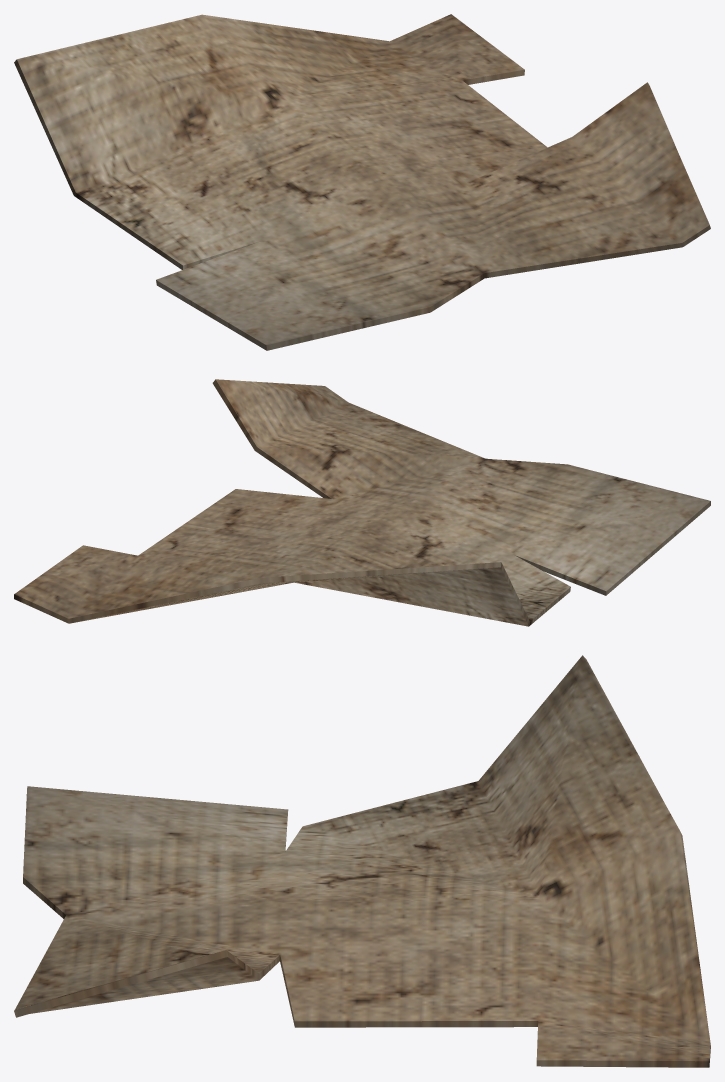
Rendered from Garbage1_15.fbx.
The picture shows the model from 3 angles, top to bottom: view 1: azimuth 30°, elevation 25°; view 2: azimuth 150°, elevation 25°; view 3: azimuth 270°, elevation 25°; orthographic projection. The views are drawn at different scales.
Visible parts, largest first — view 1: polySurface19; view 2: polySurface19; view 3: polySurface19.
Boxes of the visible parts, bbox=[...] form: polySurface19: bbox=[14, 14, 710, 350]; polySurface19: bbox=[14, 379, 710, 626]; polySurface19: bbox=[14, 655, 710, 1067].
Bounding box in the file's own units: 2.17 × 0.5699 × 2.33.
